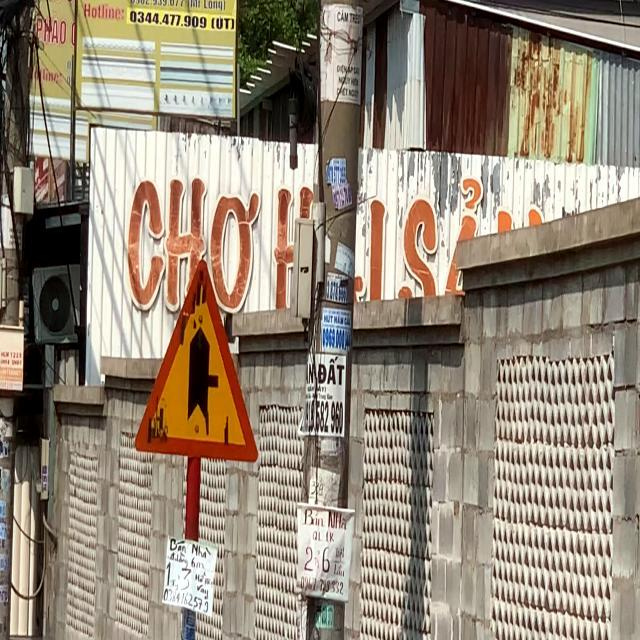Giao nhau voi duong khong uu tien ben phai: (134, 256, 259, 466)
